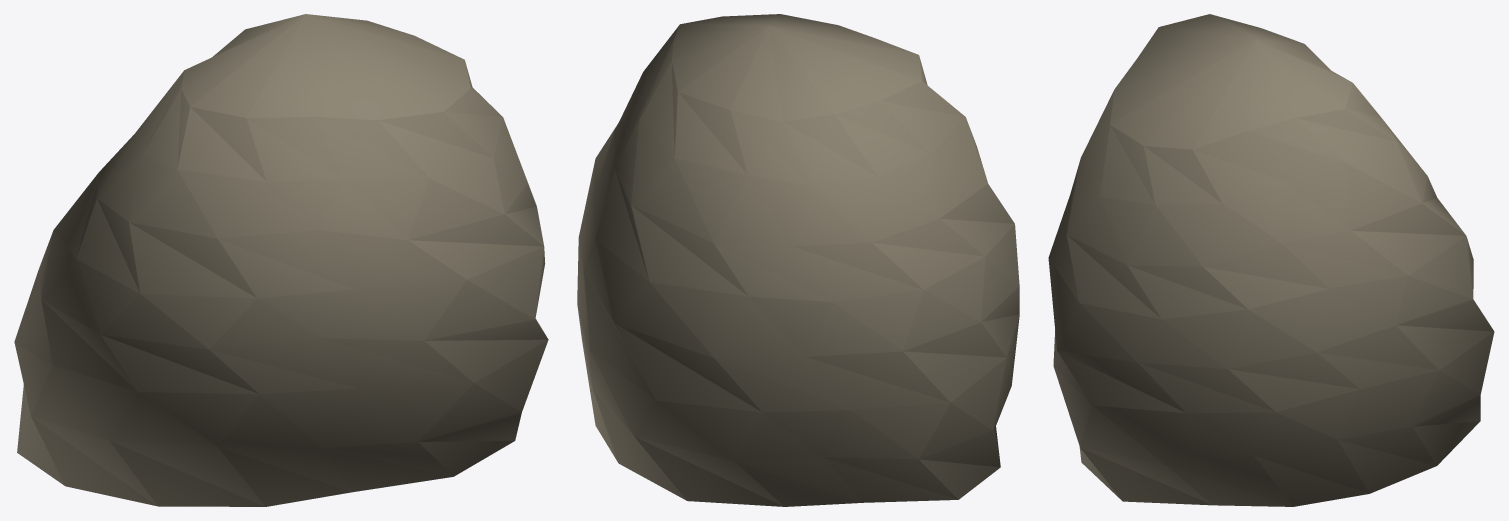
File: boulder-v1.lod1.glb
3 renders of one model, left to right at view 1: azimuth 30°, elevation 25°; view 2: azimuth 150°, elevation 25°; view 3: azimuth 270°, elevation 25°, orthographic. The views are drawn at different scales.
Visible parts, largest first — view 1: boulder-v1.lod1; view 2: boulder-v1.lod1; view 3: boulder-v1.lod1.
Boxes of the visible parts, <box> form: boulder-v1.lod1: <box>14,14,548,506</box>; boulder-v1.lod1: <box>577,14,1019,506</box>; boulder-v1.lod1: <box>1048,14,1494,506</box>.
Bounding box in the file's own units: 3.2 × 2.8 × 2.86.
